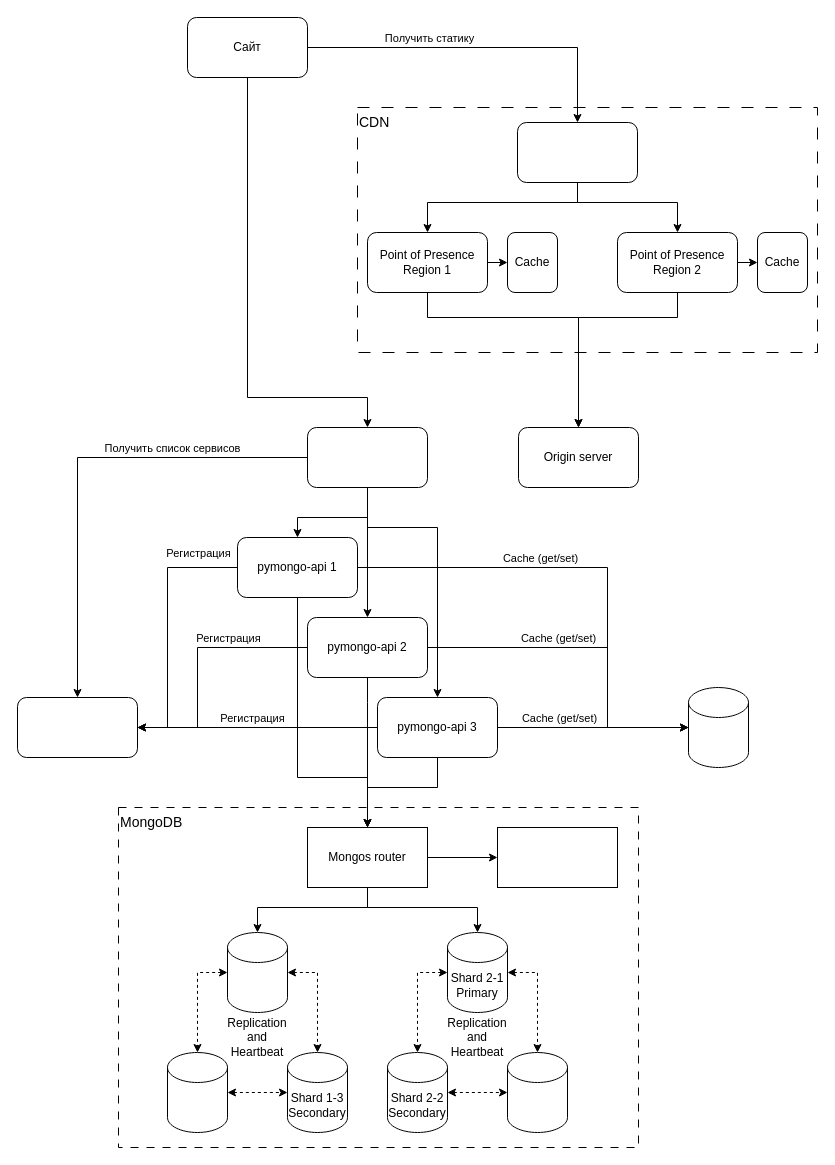
Some shapes in this 835 by 1165 pixel diagram are drawn without their labels. The centre of each missing label's shape, as x and y in pixels:
"Api Gateway" goes at pixel 367 457.
"Configuration" goes at pixel 557 857.
"Consul" goes at pixel 77 727.
"Global server load balancing" goes at pixel 577 152.
"Redis" goes at pixel 718 727.
"Shard 1-1 Primary" goes at pixel 257 972.
"Shard 1-2 Secondary" goes at pixel 197 1092.
"Shard 2-3 Secondary" goes at pixel 537 1092.
